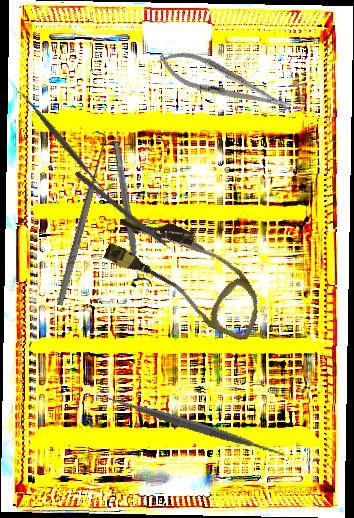Cannula: (95, 203, 278, 344)
Fixation Ring: (105, 139, 153, 289)
Hook Surgical: (48, 130, 112, 307)
Needle Holder: (153, 42, 297, 124)
Pusher: (73, 170, 185, 263)
Spatula Surgical: (101, 334, 287, 517), (14, 85, 112, 198)
